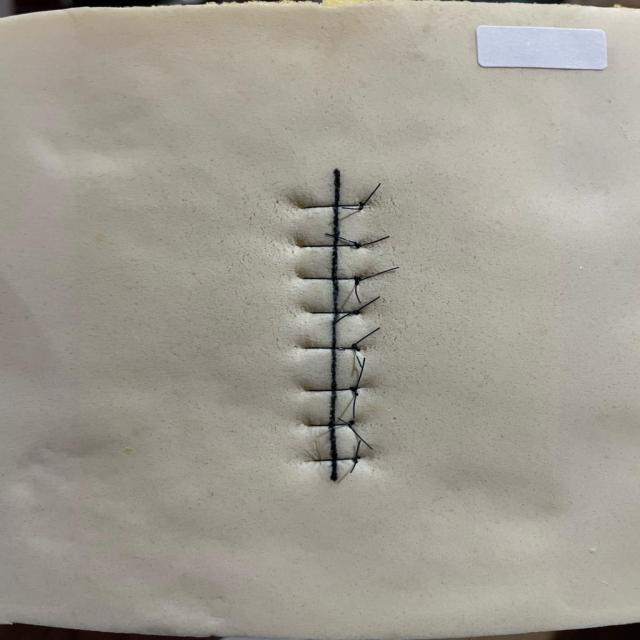knot: (347, 385, 362, 398), (351, 274, 364, 287), (349, 342, 363, 353), (356, 200, 368, 212), (350, 454, 363, 465), (344, 419, 357, 430), (351, 240, 365, 250), (347, 309, 362, 317)
leftover: (356, 266, 400, 282), (348, 424, 374, 451), (352, 326, 381, 348), (360, 182, 382, 206), (353, 295, 381, 313), (353, 356, 367, 390), (324, 232, 357, 244), (359, 235, 390, 246), (332, 311, 355, 325), (352, 347, 363, 368), (353, 282, 362, 304), (353, 439, 362, 459), (352, 392, 358, 420), (348, 459, 358, 474), (336, 416, 350, 425), (340, 206, 363, 210)
stitch: (302, 203, 363, 210), (300, 243, 361, 248), (306, 387, 355, 392), (311, 457, 358, 462), (302, 276, 359, 280), (300, 346, 357, 350), (308, 422, 352, 427), (309, 311, 356, 314)
wound: (330, 168, 340, 482)
